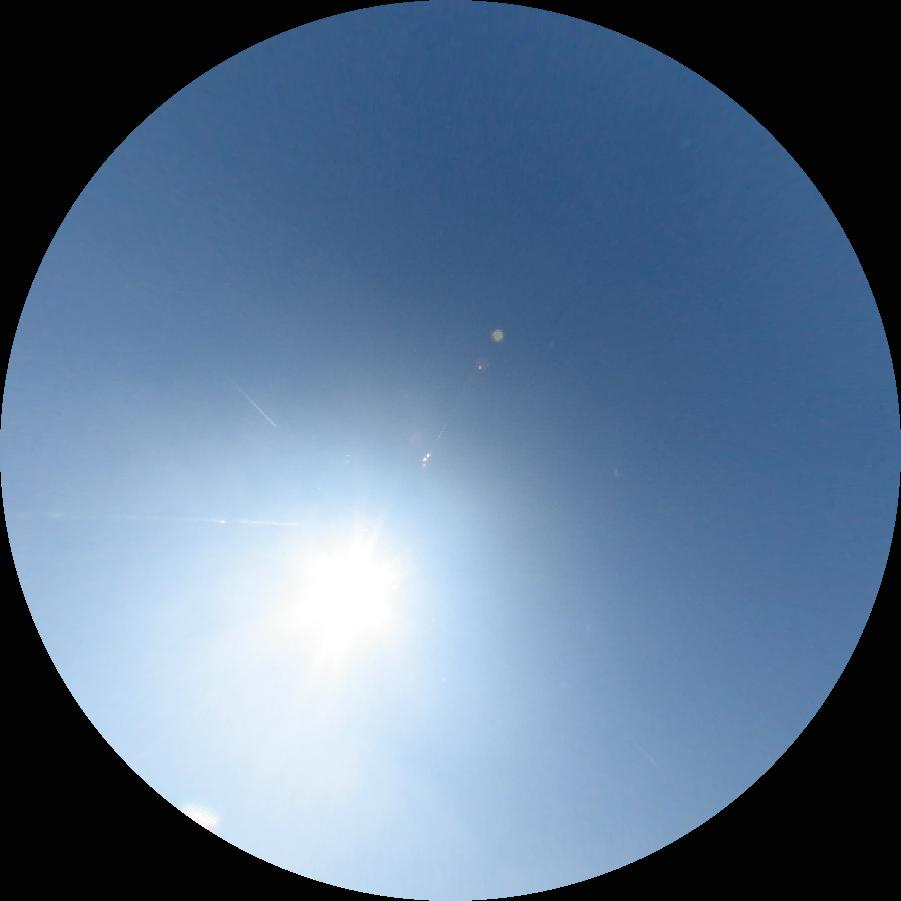contrail young: (226, 376, 277, 426), (627, 733, 660, 771)
parasite: (25, 511, 296, 524)
sun: (298, 542, 390, 626)
